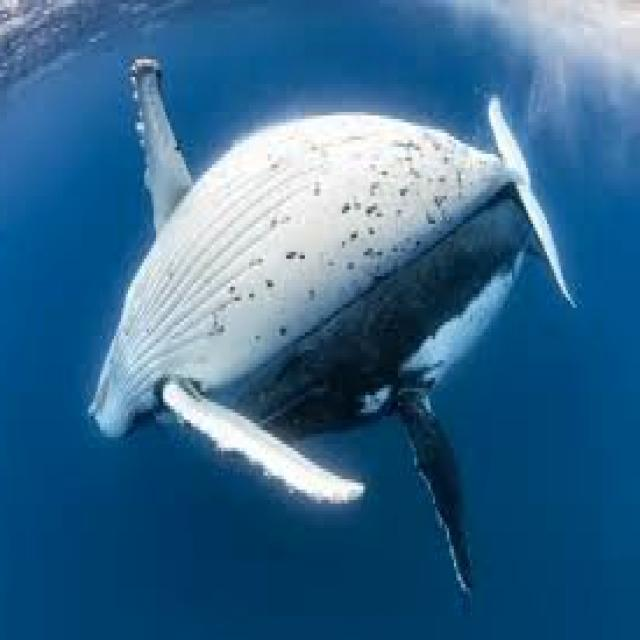whale: (91, 59, 575, 588)
